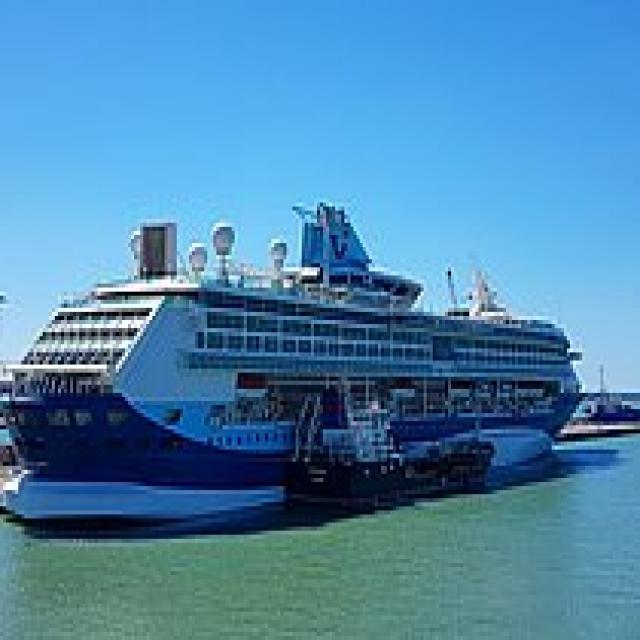Ship: (7, 187, 614, 560)
